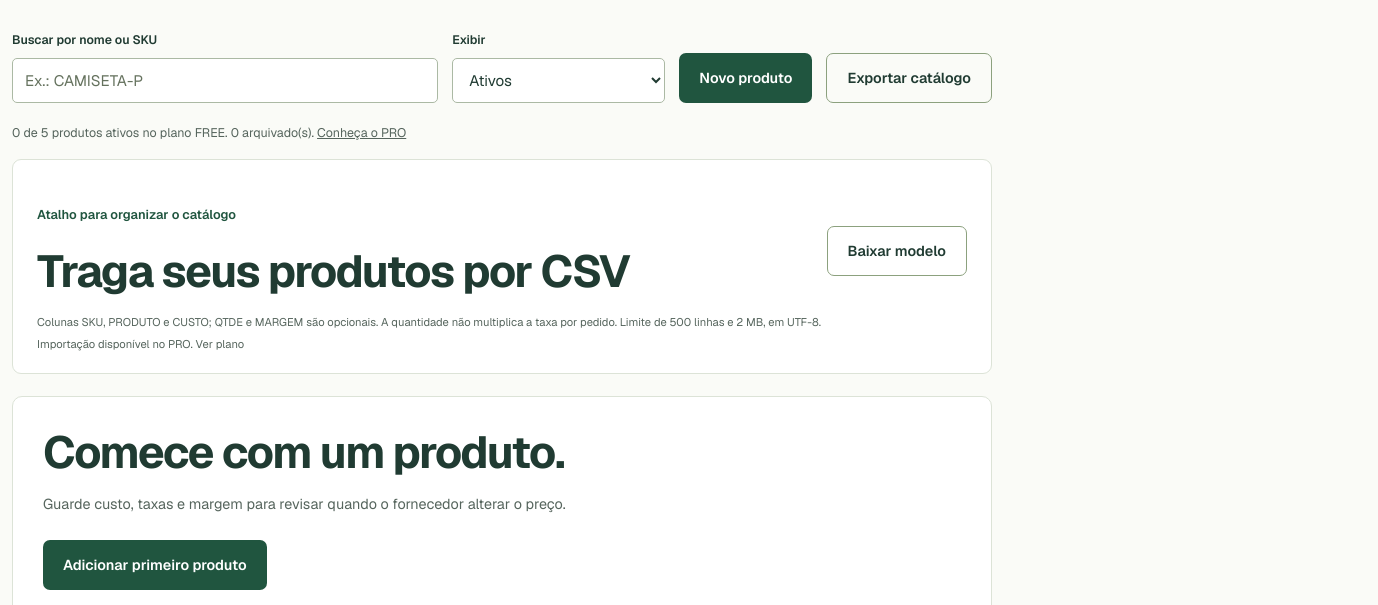
Test case: ProductsClient › changeChannel_clearsMercadoLivreRule
Step 1. Click the button "Novo produto" → (746, 78), box [679, 53, 812, 103]
(page scrolled)
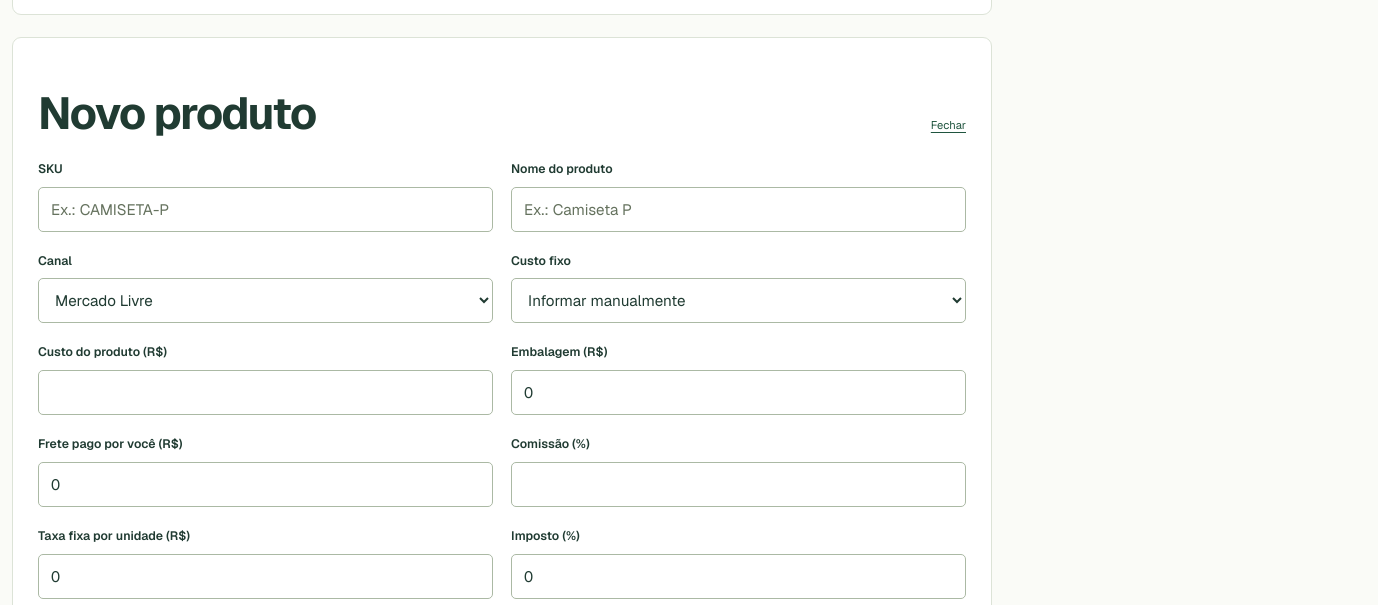
Step 2. Select "ME2 Drop Off verificado" in the dropdown labelled "Custo fixo" → (738, 301), box [511, 278, 966, 324]
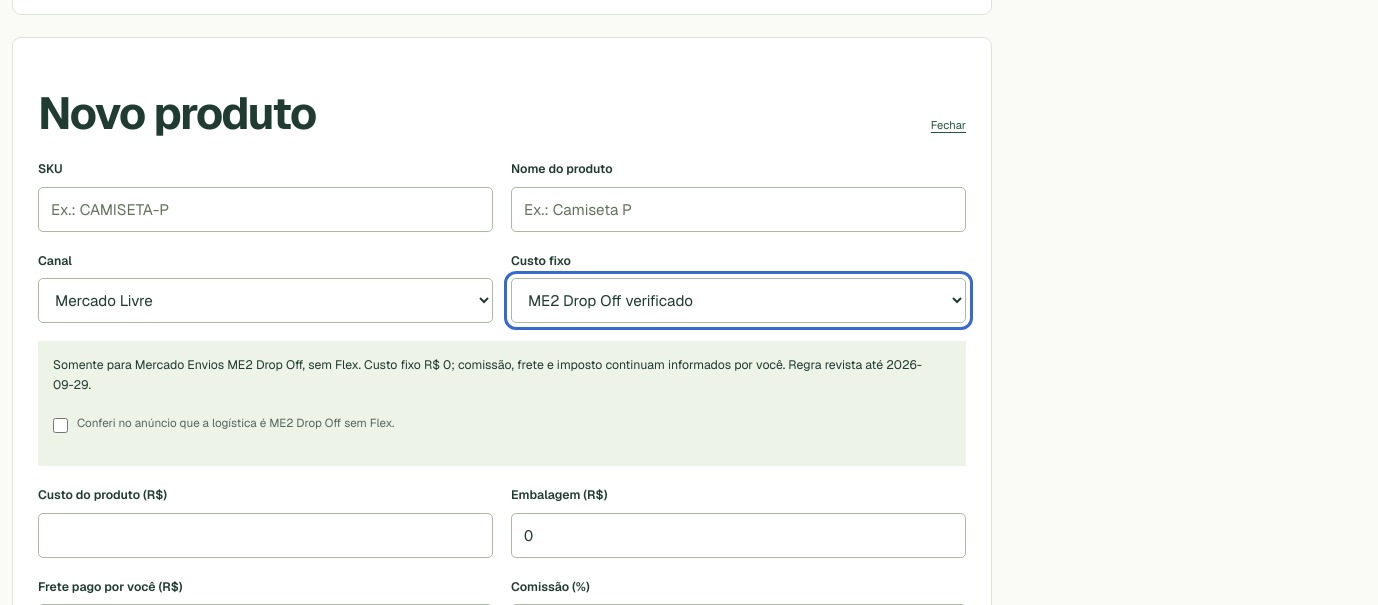
Result: the text "Somente para Mercado Envios ME2 Drop Off" is shown at [53, 358, 886, 374]
Step 3. Select "Shopee" in the dropdown labelled "Canal" → (266, 301), box [38, 278, 493, 324]
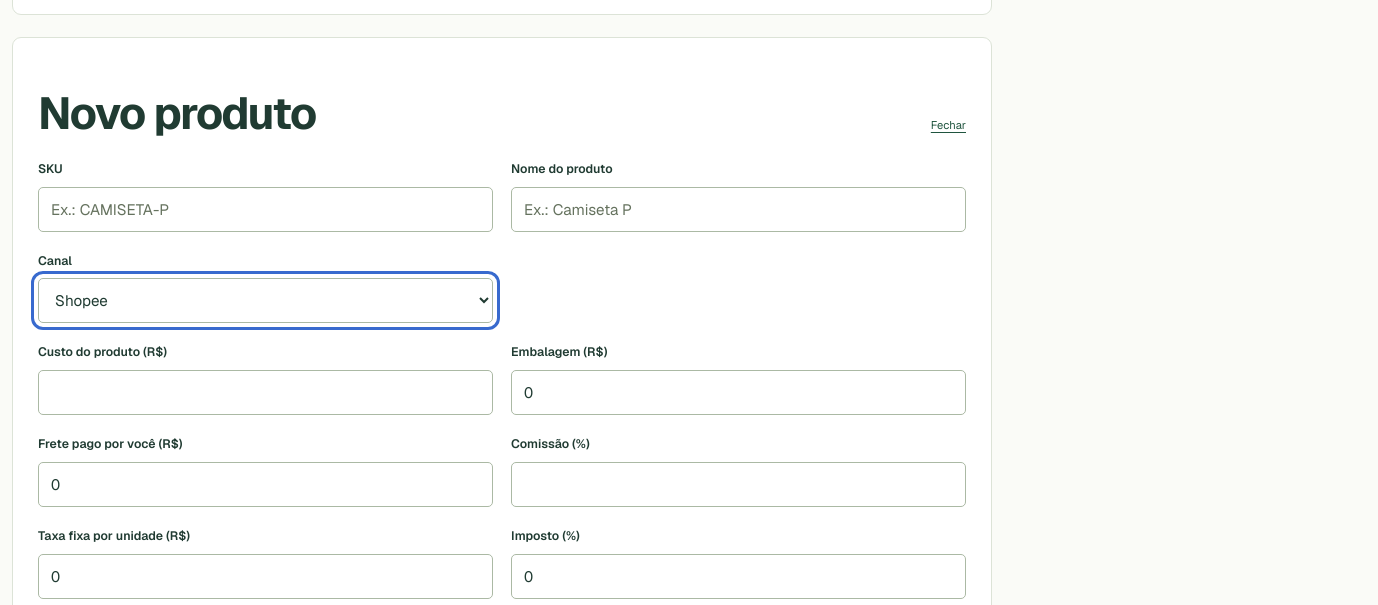
Result: the text "Somente para Mercado Envios ME2 Drop Off" is gone
Result: the field labelled "Taxa fixa por unidade (R$)" is shown at [38, 554, 493, 598]
